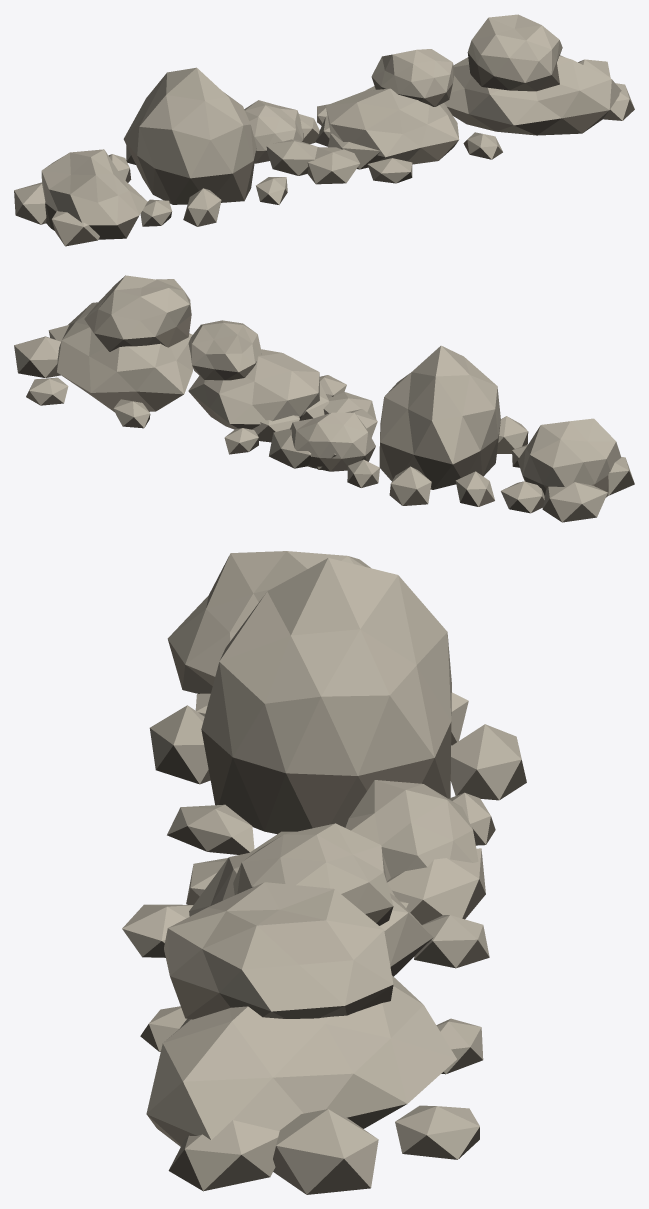
The model's file is stone_hazard_two_lane_C.glb.
3 renders of one model, top to bottom at view 1: azimuth 30°, elevation 25°; view 2: azimuth 150°, elevation 25°; view 3: azimuth 270°, elevation 25°, orthographic. The views are drawn at different scales.
Parts seen in each view (by area): view 1: stone_hazard_two_lane_C; view 2: stone_hazard_two_lane_C; view 3: stone_hazard_two_lane_C.
Boxes of the visible parts, box(x1,y1,x2,y2) form: stone_hazard_two_lane_C: box(14, 14, 634, 246); stone_hazard_two_lane_C: box(14, 275, 634, 522); stone_hazard_two_lane_C: box(122, 551, 526, 1194).
Size of the model in its own units: 4.86 by 0.9418 by 1.46.
